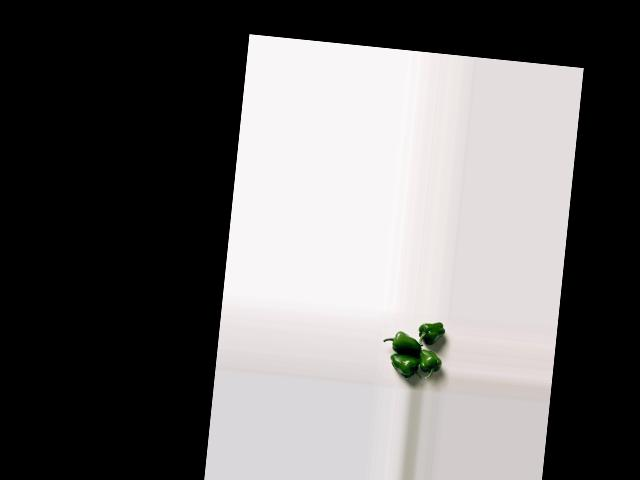bell_pepper: (419, 347, 442, 378)
